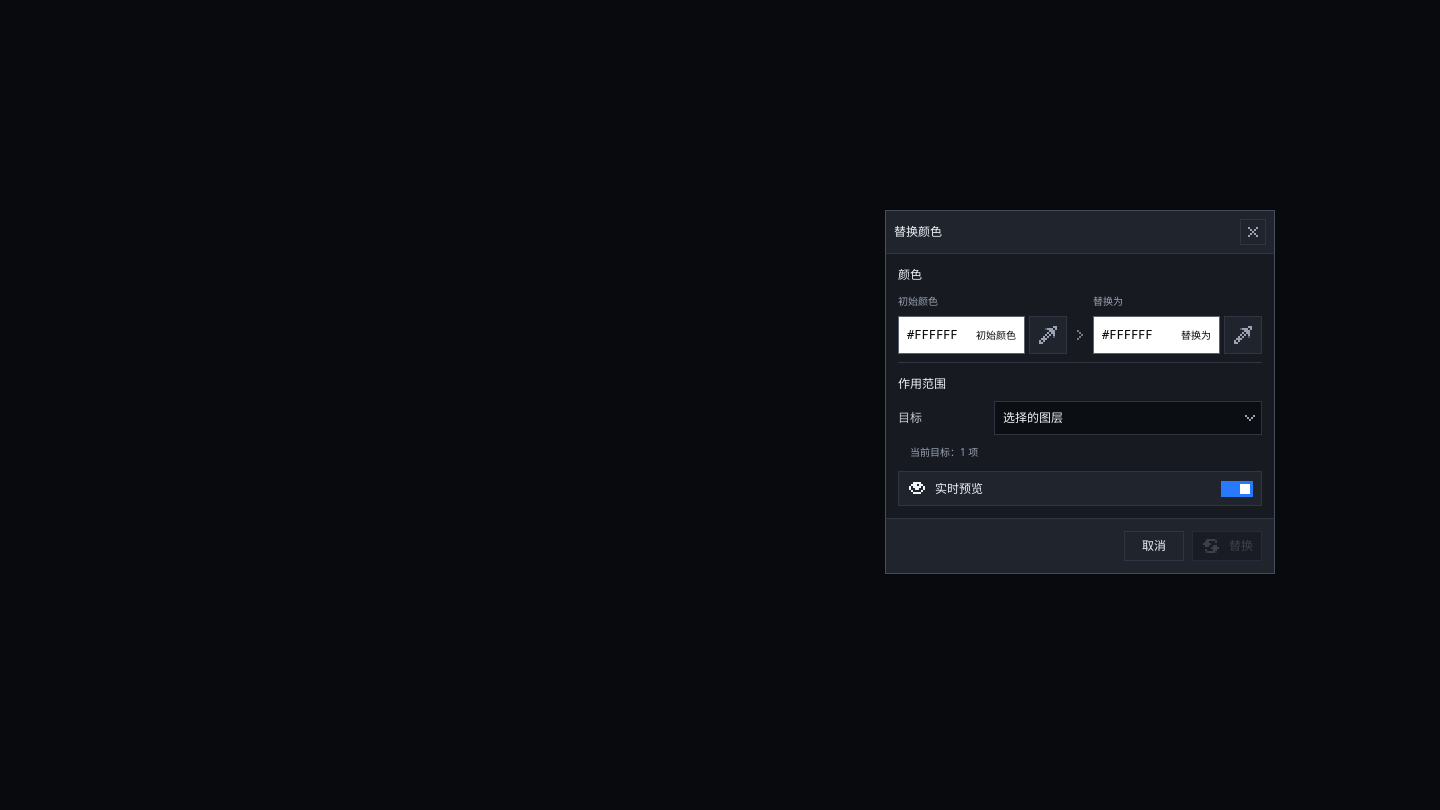
it: ColorReplacementDialog › shows selection as a target without the preview description text
The image size is (1440, 810).
Click the button with aria-label "目标".
click(1033, 417)  # box [994,401,1262,435]
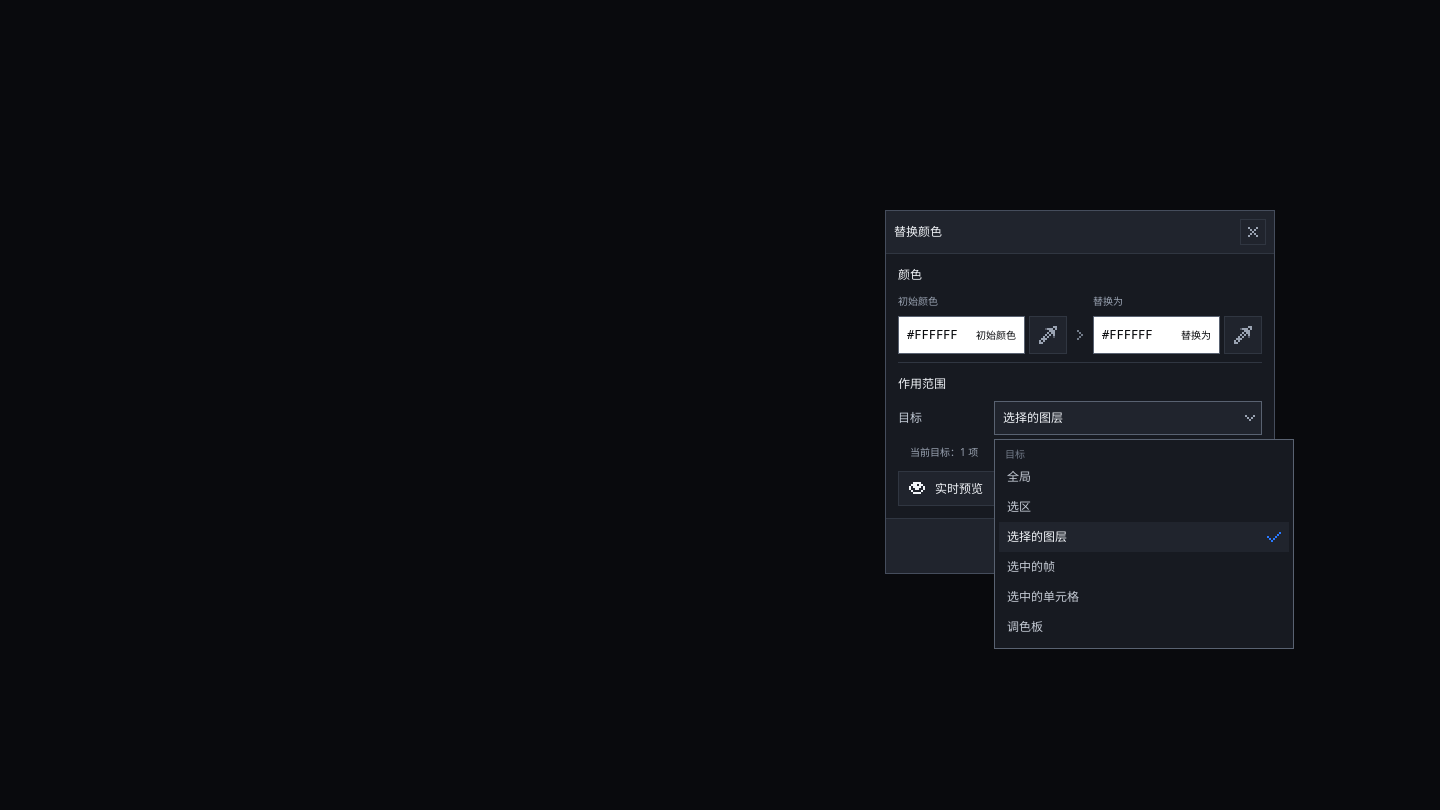
Check: the option "选区" is shown, box [999,492,1289,522]
